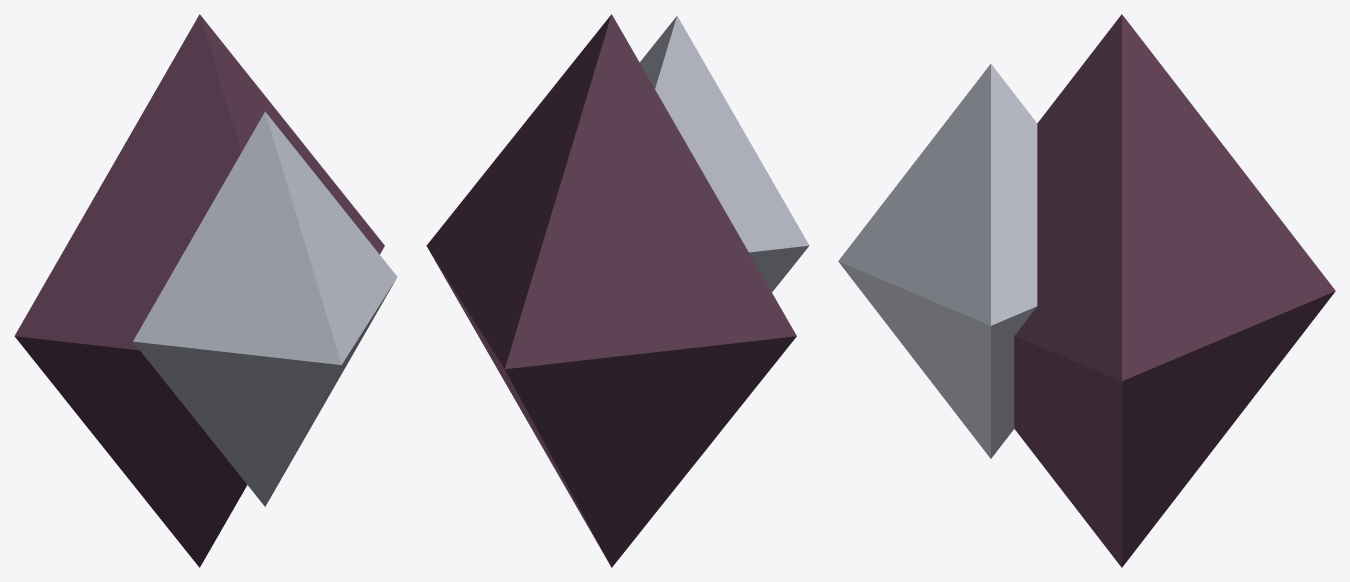
Rendered from loot_core.glb.
The picture shows the model from 3 angles, left to right: view 1: azimuth 30°, elevation 25°; view 2: azimuth 150°, elevation 25°; view 3: azimuth 270°, elevation 25°; orthographic projection.
Parts seen in each view (by area): view 1: loot_core_Mesh; view 2: loot_core_Mesh; view 3: loot_core_Mesh.
Boxes of the visible parts, x1,y1,x2,y2 form: loot_core_Mesh: (14, 14, 397, 567); loot_core_Mesh: (426, 14, 809, 567); loot_core_Mesh: (838, 14, 1335, 567).
Bounding box in the file's own units: 0.392 × 0.56 × 0.456.
